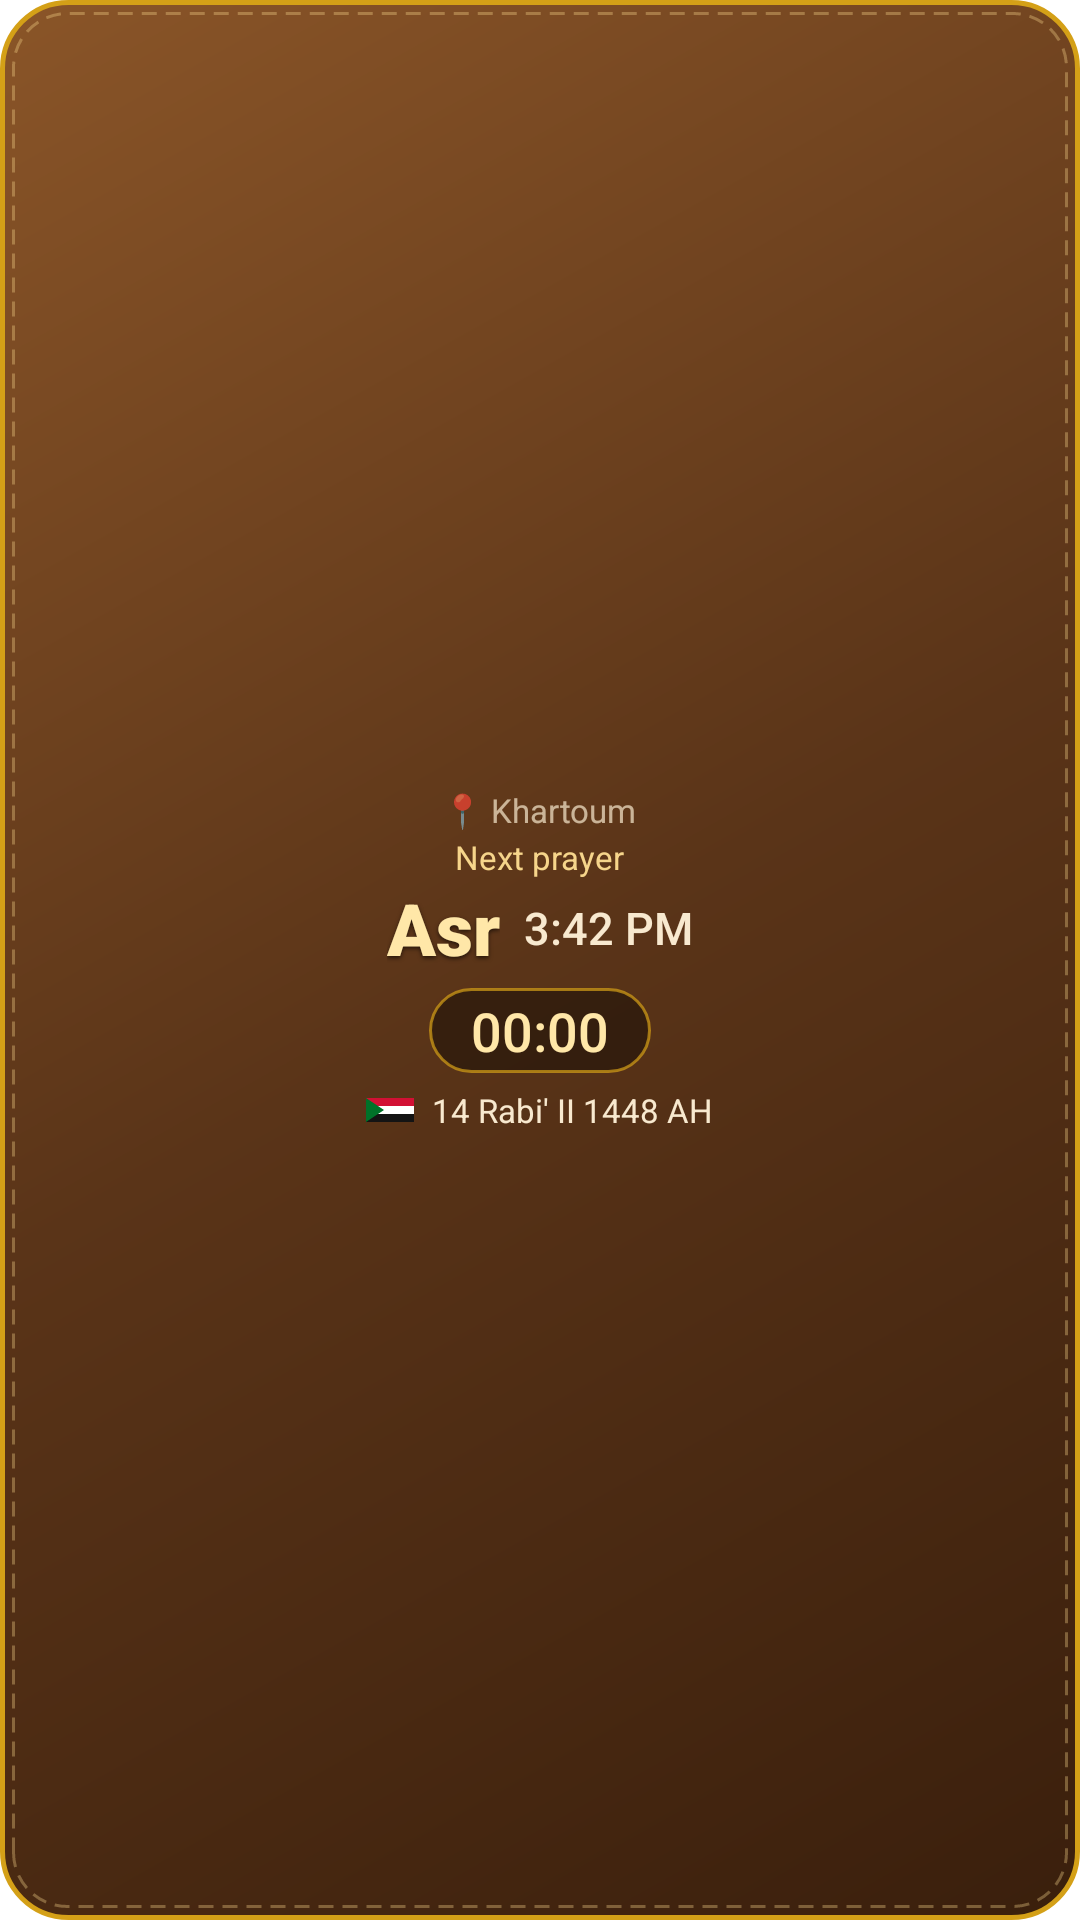

Icons on this 1080*1920 Android screen, each with the point to tap as (x,y):
flag: (390,1110)
